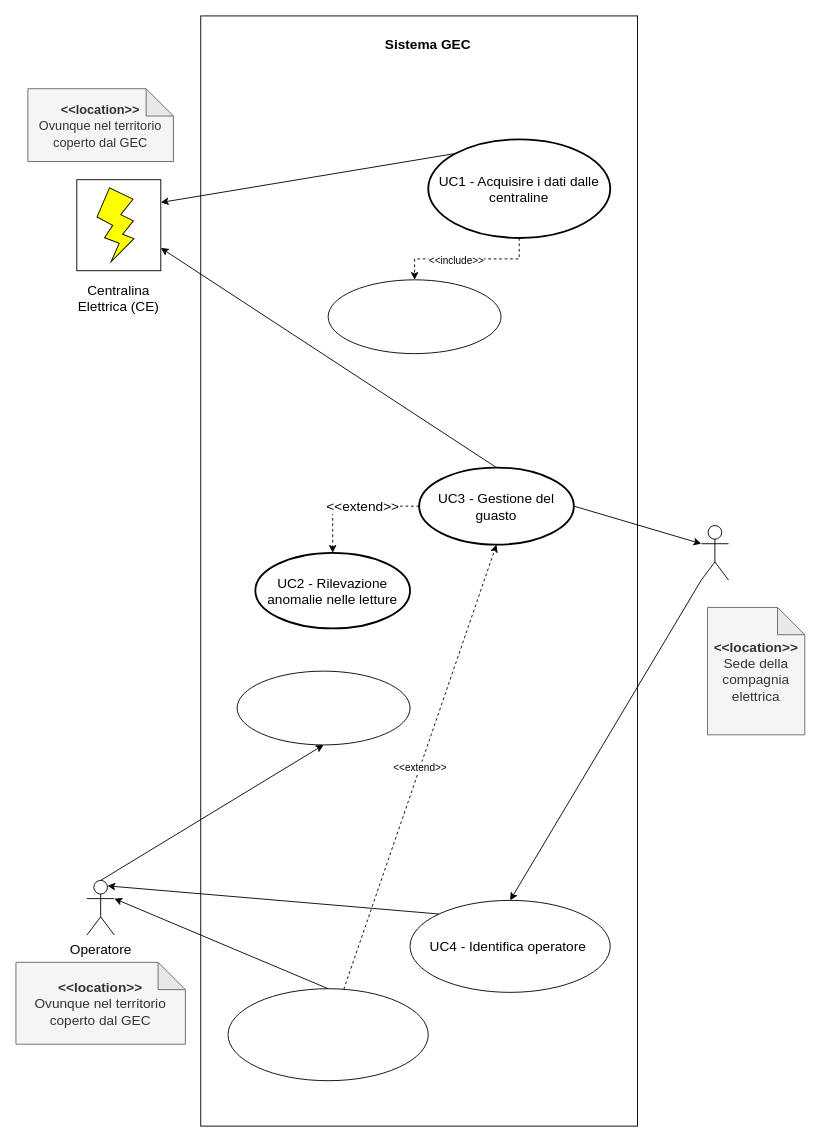
Some shapes in this 821 by 1142 pixel diagram are drawn without their labels. Here are the shapes that lost their labels. From the top down, the centre of each, then its label:
At point 414,316: "UC7 - Analisi dati per creazione nuove politiche di distribuzione".
At point 714,552: "Servizio tecnico centrale".
At point 323,707: "UC6 - Comunica avvio e termine dell'intervento".
At point 327,1034: "UC5 - Notifica all'operatore l'intervento da effettuare".
